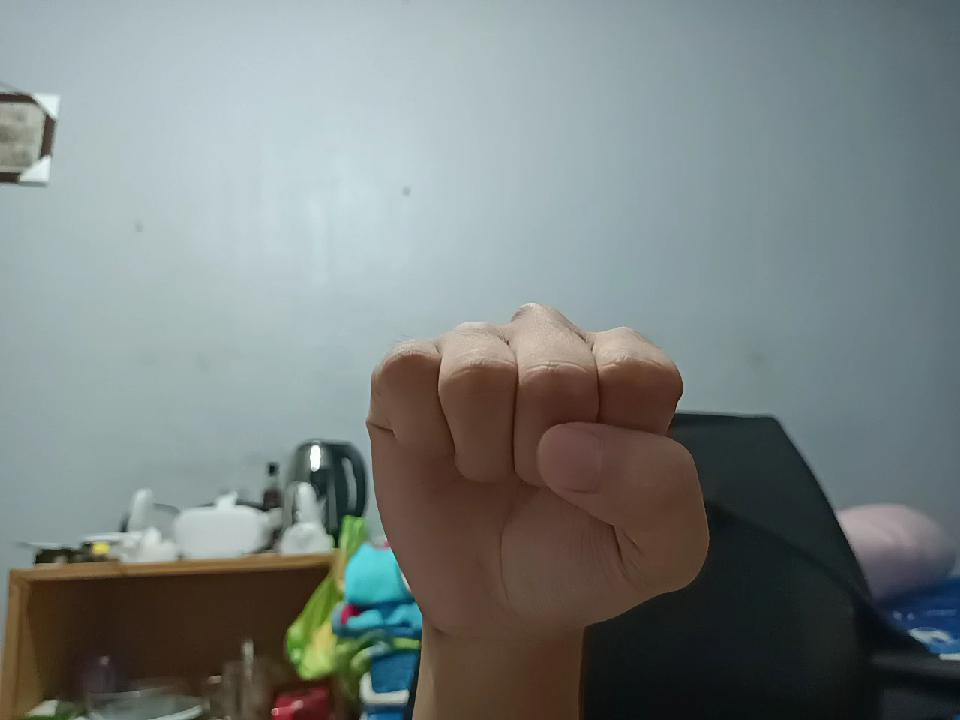rock: (378, 289, 694, 666)
